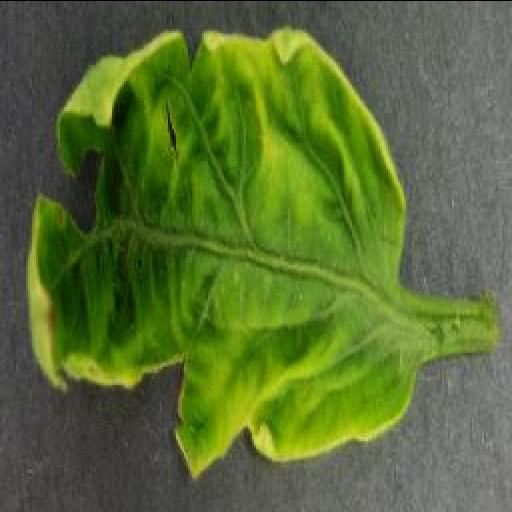disease_tomato: (25, 28, 423, 477)
